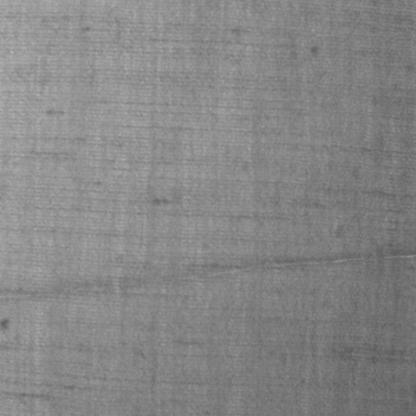objects: (0, 249, 415, 304)
